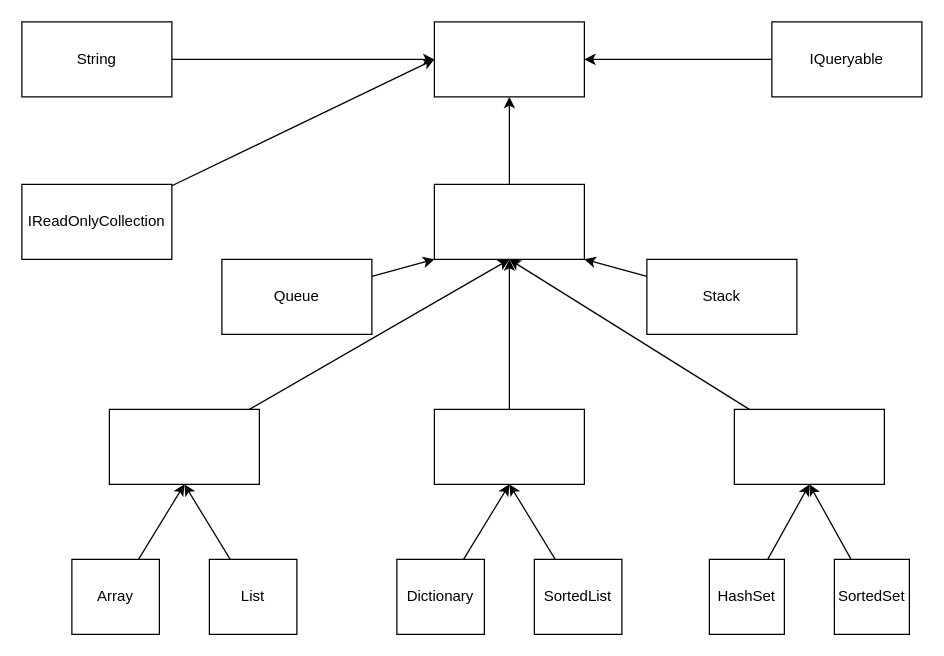
The diagram is 944 pixels wide and 656 high, and some of its shapes have lost their labels. The shapes that lost their labels are listed below. From the top down, each one's box as (x1, y1, x2, y2) in pixels, then its label:
(433, 21, 584, 97): IEnumerable
(433, 183, 584, 259): ICollection
(108, 408, 259, 484): IList
(433, 408, 584, 484): IDictionary
(733, 408, 884, 484): ISet
